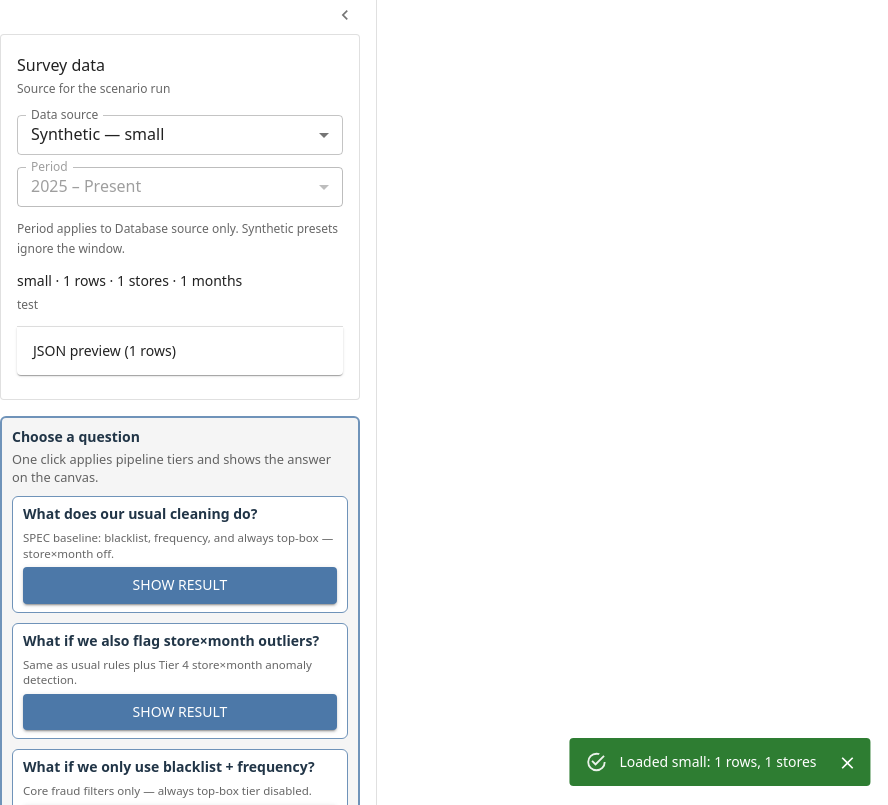
Test case: SanitizationPage controls rail › undo restores previous config and clears one-level undo stack
Click the button with test id "sanitization-pack-apply-with_store_month" at (180, 712), box [23,694,337,730]
(page scrolled)
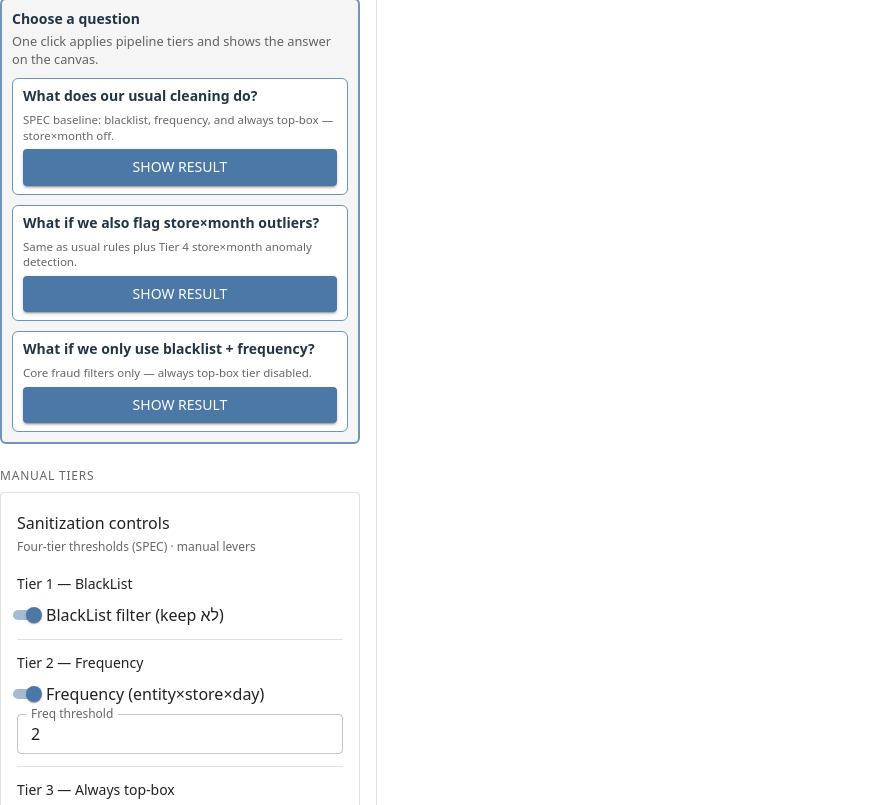
Click the button with test id "sanitization-pack-apply-core_only" at (180, 405), box [23,387,337,423]
(page scrolled)
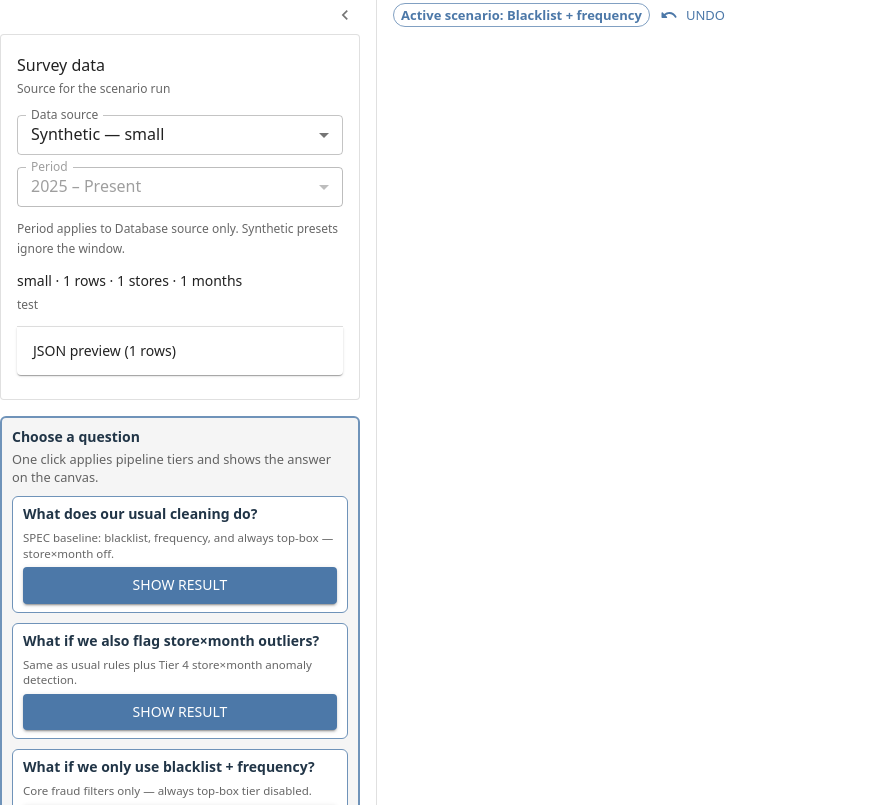
Result: the button with test id "sanitization-active-scenario" shows "Blacklist + frequency" at [393,3,650,27]
Click the button with test id "sanitization-undo-scenario" at (693, 15), box [654,0,733,31]
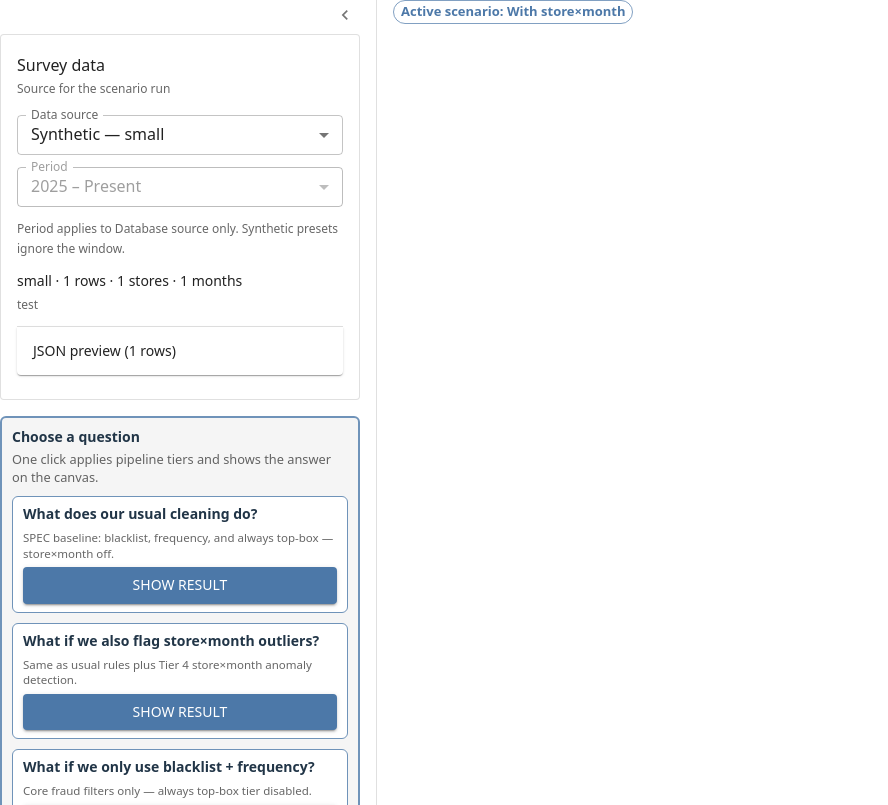
Result: the button with test id "sanitization-active-scenario" shows "With store×month" at [393,0,634,24]
Result: the button with test id "sanitization-undo-scenario" is gone
